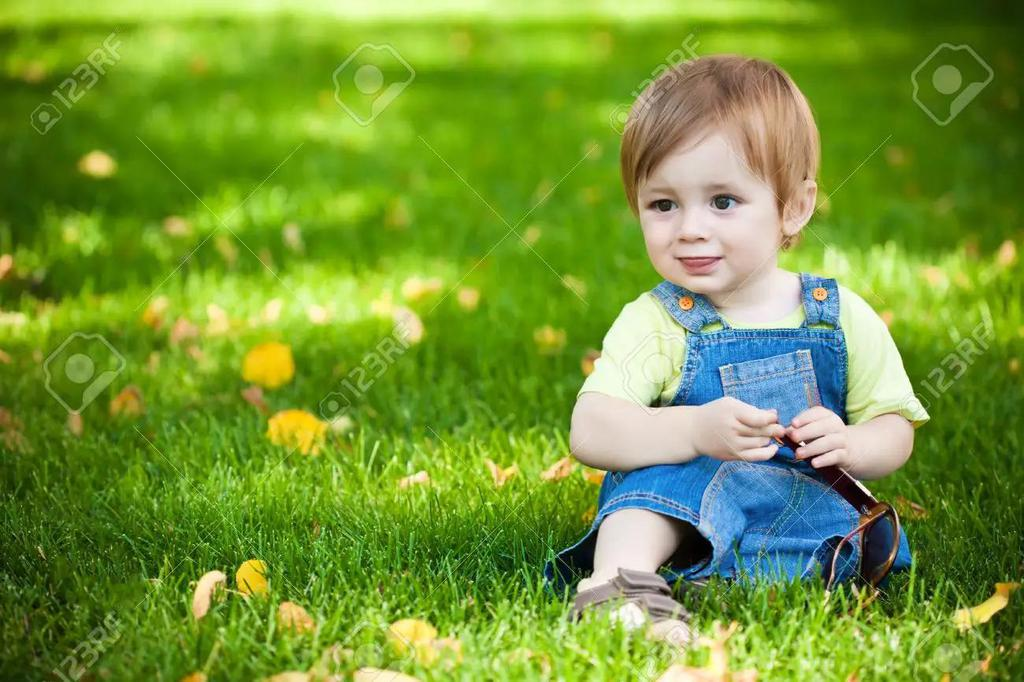child: (526, 48, 936, 638)
